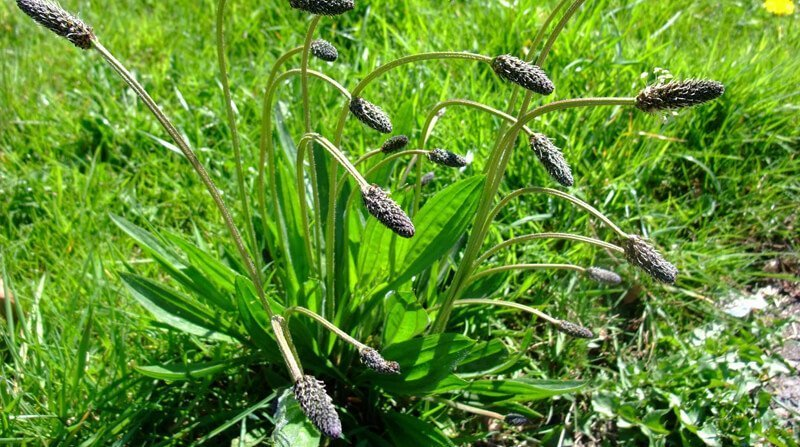buckhorn plantain: (18, 3, 704, 403)
